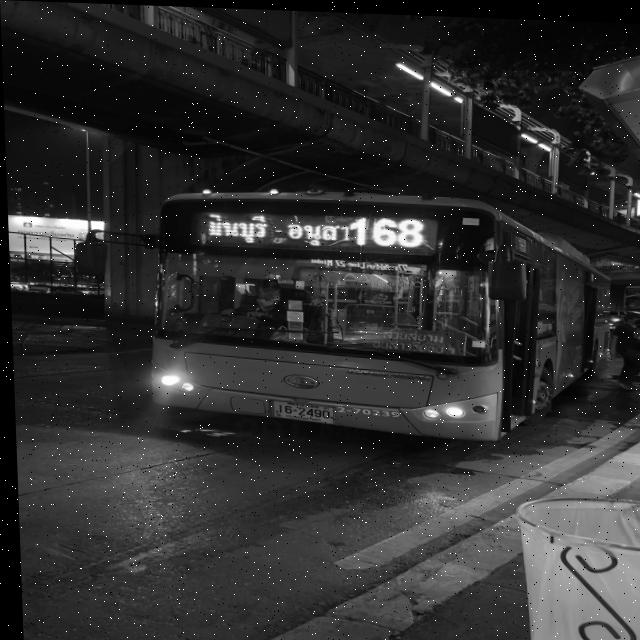BMTA-bus: (141, 181, 603, 443)
Bus-Line-Number: (343, 208, 428, 249)
Destination-Sign-Normal: (360, 322, 462, 358)
